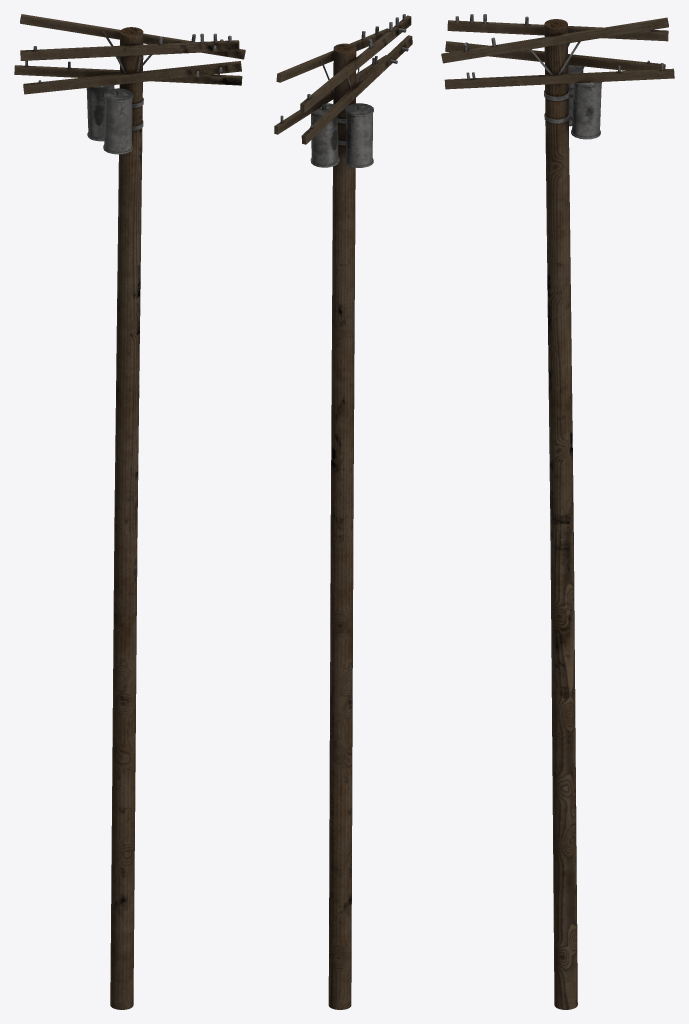
Rendered from SM_ElectricalPole02.fbx.
The picture shows the model from 3 angles, left to right: view 1: azimuth 90°, elevation 25°; view 2: azimuth 150°, elevation 25°; view 3: azimuth 270°, elevation 25°; orthographic projection. The views are drawn at different scales.
Parts seen in each view (by area): view 1: SM_ElectricalPole02_LOD0; view 2: SM_ElectricalPole02_LOD0; view 3: SM_ElectricalPole02_LOD0.
Part boxes in pixels (bbox=[...]): SM_ElectricalPole02_LOD0: bbox=[14, 14, 245, 1009]; SM_ElectricalPole02_LOD0: bbox=[274, 14, 412, 1009]; SM_ElectricalPole02_LOD0: bbox=[441, 14, 674, 1009].
Size of the model in its own units: 38.28 by 146 by 684.
Materials: 1 (1 with a texture image).
